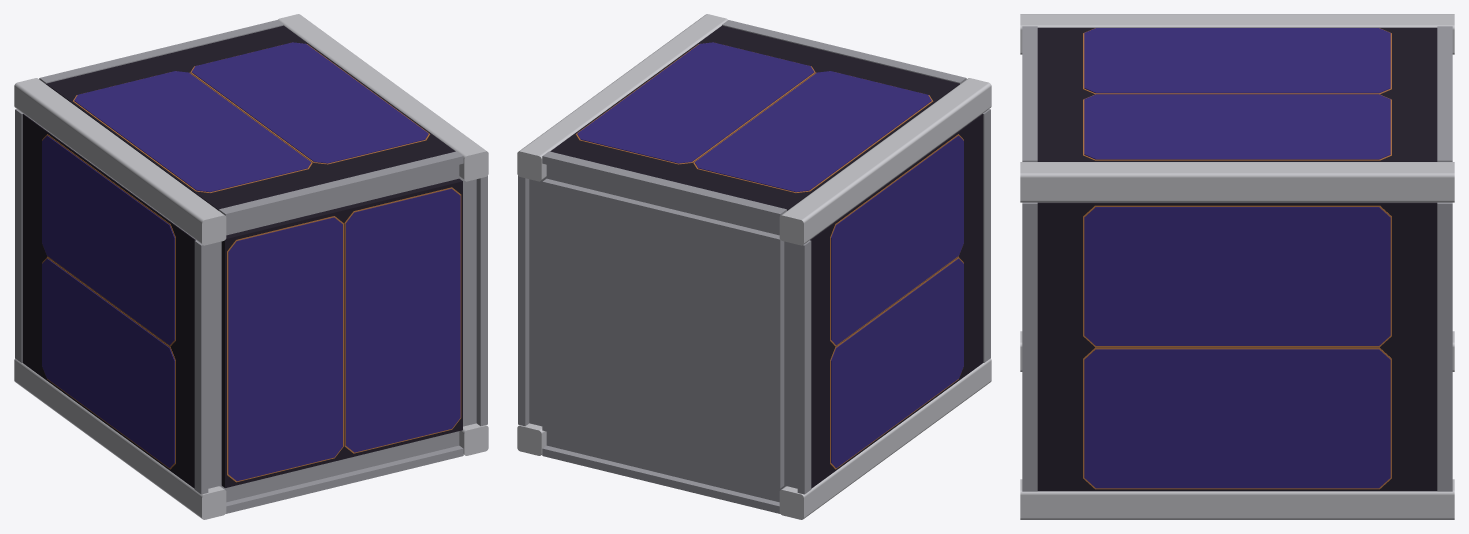
Rendered from CDS_1U_nasa_style.obj.
The picture shows the model from 3 angles, left to right: view 1: azimuth 30°, elevation 25°; view 2: azimuth 150°, elevation 25°; view 3: azimuth 270°, elevation 25°; orthographic projection. The views are drawn at different scales.
Parts seen in each view (by area): view 1: solar_panel_pZ_cells, solar_panel_mX_z1_cells, solar_panel_pY_z1_cells, structure_body, solar_panel_mX_z1_substrate, solar_panel_pY_z1_substrate, rail_mX_pY, structure_band_mX, rail_mX_mY, structure_band_pY, solar_panel_pZ_substrate, rail_pX_pY (+6 smaller); view 2: structure_endplate_mZ, solar_panel_mX_z1_cells, solar_panel_pY_z1_cells, structure_body, solar_panel_mX_z1_substrate, solar_panel_pY_z1_substrate, rail_mX_pY, structure_band_mX, rail_mX_mY, structure_band_pY, rail_pX_pY, structure_band_pX (+4 smaller); view 3: solar_panel_pX_z1_cells, solar_panel_pY_z1_cells, solar_panel_pX_z1_substrate, rail_pX_pY, solar_panel_pY_z1_substrate, rail_pX_mY, structure_band_pX, rail_mX_pY, structure_band_pY, solar_panel_pX_z1_cell_borders, solar_panel_pY_z1_cell_borders.
Part boxes in pixels (bbox=[...]): solar_panel_pZ_cells: bbox=[228, 188, 460, 481]; solar_panel_mX_z1_cells: bbox=[42, 135, 174, 467]; solar_panel_pY_z1_cells: bbox=[74, 42, 428, 192]; structure_body: bbox=[208, 165, 476, 502]; solar_panel_mX_z1_substrate: bbox=[22, 114, 195, 488]; solar_panel_pY_z1_substrate: bbox=[46, 25, 455, 210]; rail_mX_pY: bbox=[14, 78, 226, 245]; structure_band_mX: bbox=[15, 109, 208, 494]; rail_mX_mY: bbox=[14, 358, 226, 519]; structure_band_pY: bbox=[39, 20, 463, 221]; solar_panel_pZ_substrate: bbox=[221, 178, 462, 487]; rail_pX_pY: bbox=[278, 14, 488, 181]; structure_endplate_mZ: bbox=[542, 178, 784, 488]; solar_panel_mX_z1_cells: bbox=[831, 135, 963, 467]; solar_panel_pY_z1_cells: bbox=[577, 42, 931, 192]; structure_body: bbox=[529, 165, 797, 502]; solar_panel_mX_z1_substrate: bbox=[810, 114, 983, 488]; solar_panel_pY_z1_substrate: bbox=[550, 25, 959, 210]; rail_mX_pY: bbox=[779, 78, 991, 245]; structure_band_mX: bbox=[797, 109, 990, 494]; rail_mX_mY: bbox=[779, 358, 991, 519]; structure_band_pY: bbox=[542, 20, 966, 221]; rail_pX_pY: bbox=[517, 14, 727, 181]; structure_band_pX: bbox=[518, 176, 529, 426]; solar_panel_pX_z1_cells: bbox=[1084, 207, 1390, 488]; solar_panel_pY_z1_cells: bbox=[1084, 28, 1390, 159]; solar_panel_pX_z1_substrate: bbox=[1037, 202, 1437, 491]; rail_pX_pY: bbox=[1020, 162, 1454, 202]; solar_panel_pY_z1_substrate: bbox=[1037, 27, 1437, 161]; rail_pX_mY: bbox=[1020, 479, 1454, 519]; structure_band_pX: bbox=[1022, 202, 1452, 491]; rail_mX_pY: bbox=[1020, 14, 1454, 54]; structure_band_pY: bbox=[1022, 26, 1452, 161]; solar_panel_pX_z1_cell_borders: bbox=[1083, 205, 1391, 489]; solar_panel_pY_z1_cell_borders: bbox=[1083, 28, 1391, 160].
Size of the model in its own units: 0.1 by 0.1 by 0.1135.
